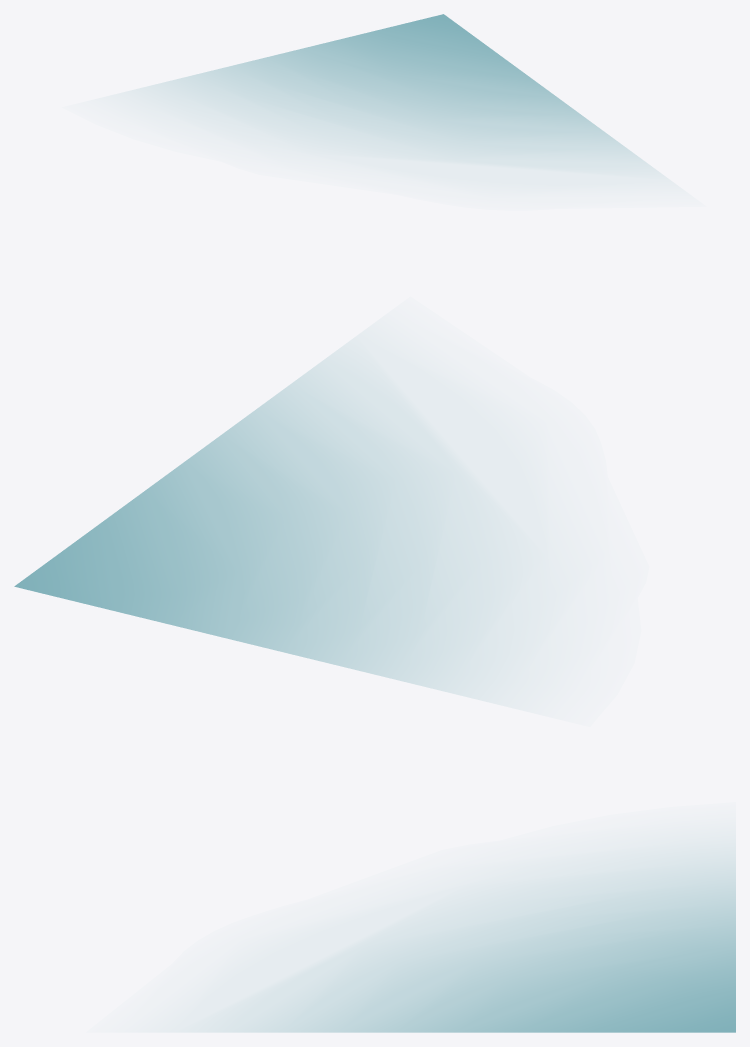
3 renders of one model, top to bottom at view 1: azimuth 30°, elevation 25°; view 2: azimuth 150°, elevation 25°; view 3: azimuth 270°, elevation 25°, orthographic. The views are drawn at different scales.
Parts seen in each view (by area): view 1: city; view 2: city; view 3: city.
Part boxes in pixels (x1,y1,x2,y2): city: (133, 14, 663, 175); city: (14, 344, 527, 700); city: (192, 845, 735, 1032).
Size of the model in its own units: 364 by 0 by 429.
